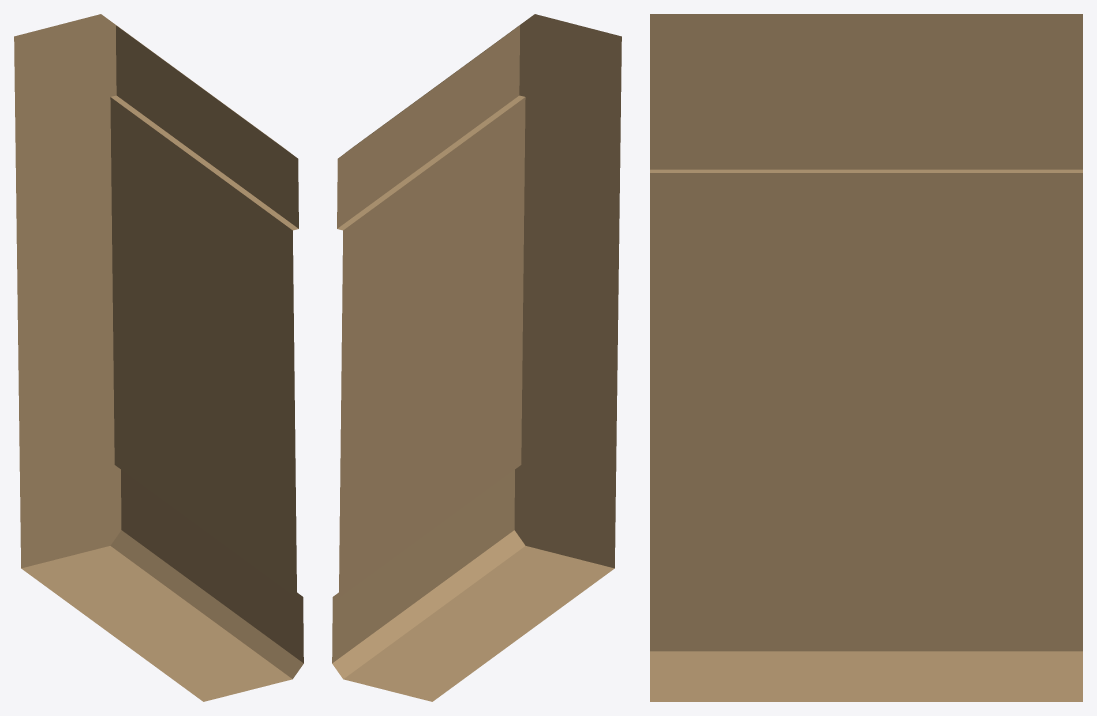
The picture shows the model from 3 angles, left to right: view 1: azimuth 30°, elevation 25°; view 2: azimuth 150°, elevation 25°; view 3: azimuth 270°, elevation 25°; orthographic projection. The views are drawn at different scales.
Parts seen in each view (by area): view 1: 0_3_2_3_1_1_0_3_0; view 2: 0_3_2_3_1_1_0_3_0; view 3: 0_3_2_3_1_1_0_3_0.
Boxes of the visible parts, bbox=[...] form: 0_3_2_3_1_1_0_3_0: bbox=[14, 14, 303, 701]; 0_3_2_3_1_1_0_3_0: bbox=[332, 14, 621, 701]; 0_3_2_3_1_1_0_3_0: bbox=[650, 14, 1082, 701].
Bounding box in the file's own units: 7.14 × 33.98 × 21.
